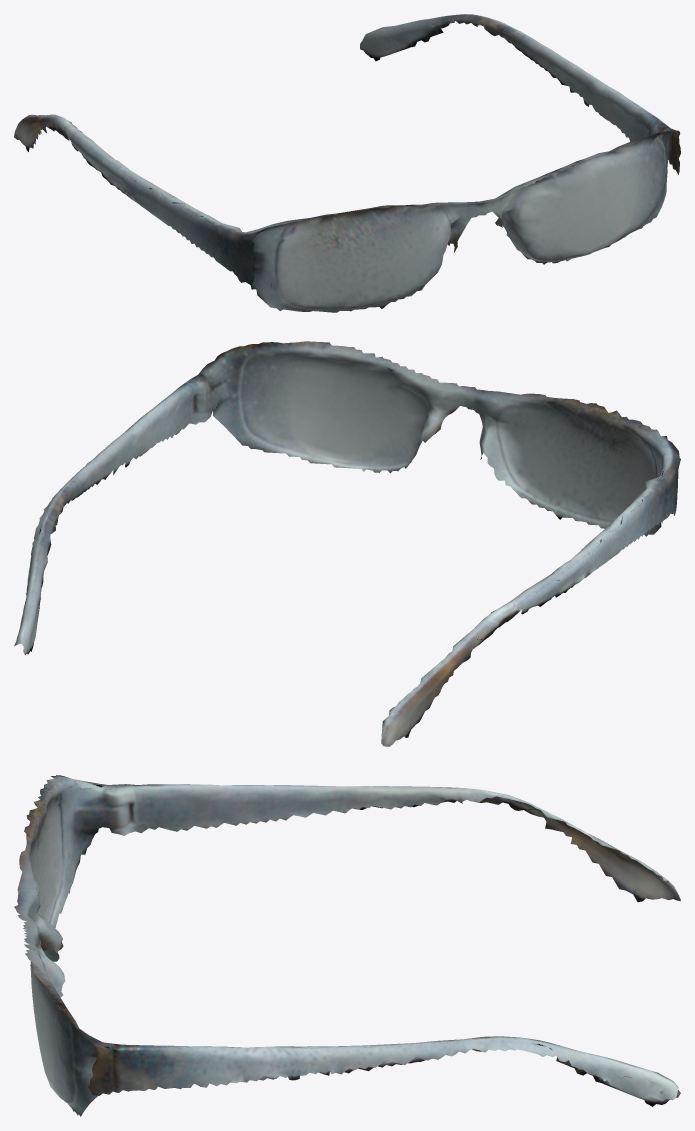
The model's file is scan_align.obj.
3 views of the same model, one above another, from view 1: azimuth 30°, elevation 25°; view 2: azimuth 150°, elevation 25°; view 3: azimuth 270°, elevation 25° (orthographic). The views are drawn at different scales.
Bounding box in the file's own units: 0.1424 × 0.033 × 0.1499.
1 material, 1 textured.
